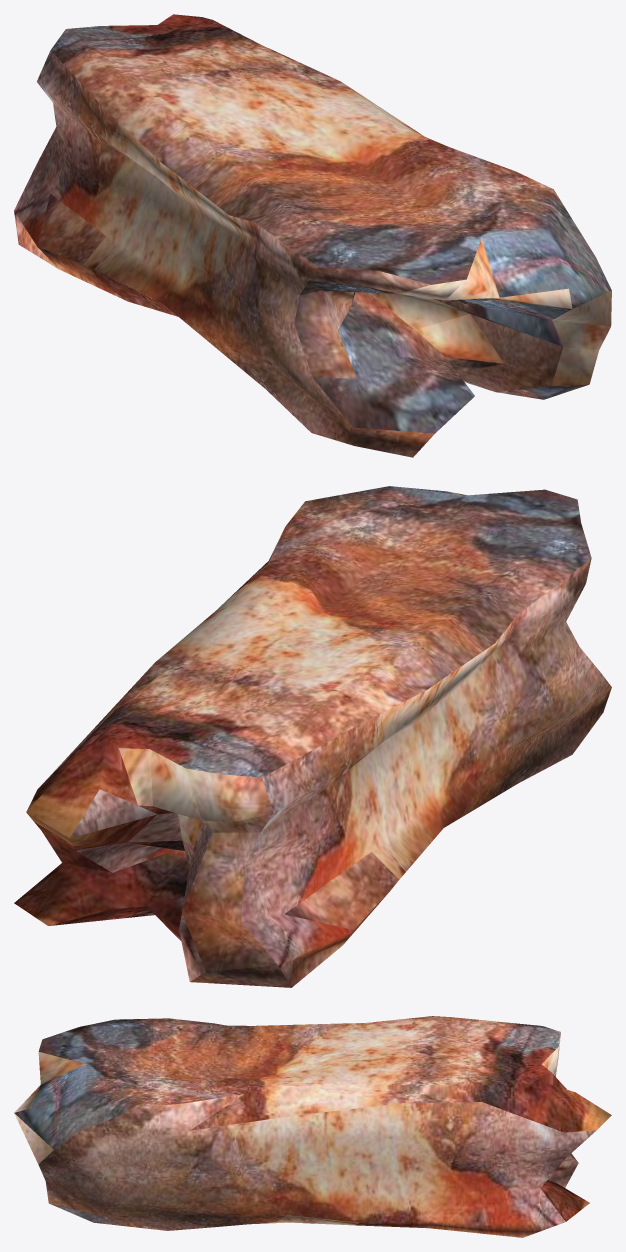
The model's file is Ore.fbx.
The picture shows the model from 3 angles, top to bottom: view 1: azimuth 30°, elevation 25°; view 2: azimuth 150°, elevation 25°; view 3: azimuth 270°, elevation 25°; orthographic projection. The views are drawn at different scales.
Parts seen in each view (by area): view 1: Ore; view 2: Ore; view 3: Ore.
Boxes of the visible parts, x1,y1,x2,y2 form: Ore: (14, 14, 611, 457); Ore: (14, 486, 611, 987); Ore: (14, 1016, 611, 1237).
Size of the model in its own units: 26.12 by 18.11 by 62.49.
